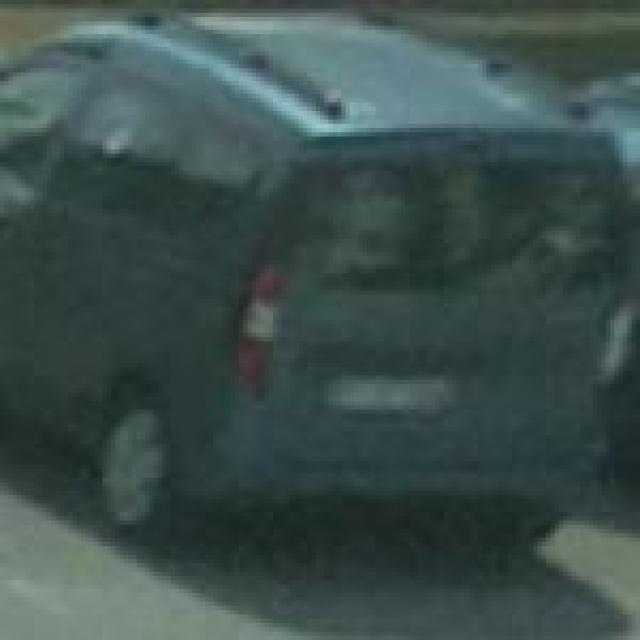cars-sUYr: (0, 2, 640, 568)
